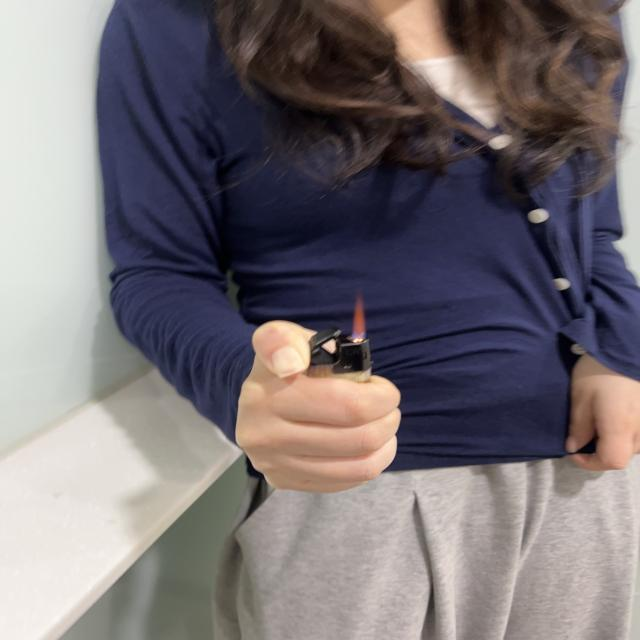fire: (349, 298, 368, 340)
